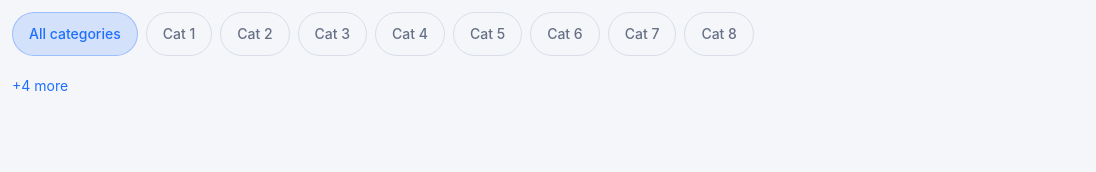
Test: CategoryMultiSelect › collapses when "Show less" is clicked
Click the button "+4 more" at x=40, y=86, box [12, 64, 68, 108]
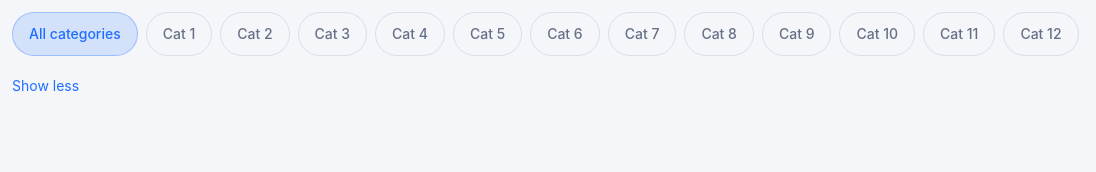
Click the button "Show less" at x=46, y=86, box [12, 64, 79, 108]
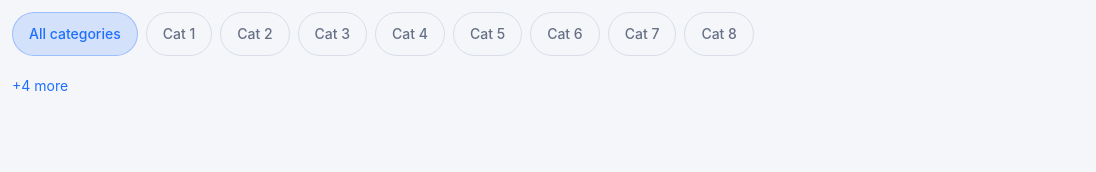
expect the button "Cat 9" is gone: met
expect the button "Show less" is gone: met
